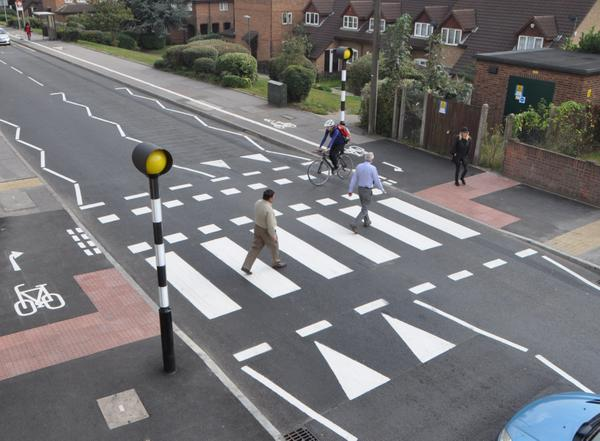person: (240, 188, 289, 274), (318, 119, 343, 170)
